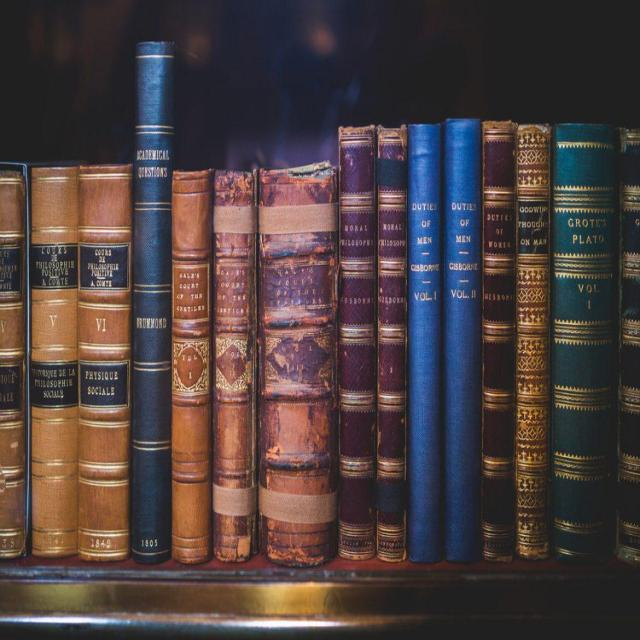book: (555, 134, 610, 555), (267, 186, 329, 554), (84, 175, 122, 550), (174, 181, 207, 559), (448, 127, 477, 556), (38, 173, 69, 552), (520, 135, 547, 558), (218, 183, 248, 555), (343, 139, 370, 551), (144, 52, 162, 554), (382, 140, 402, 556), (419, 137, 438, 543), (491, 125, 507, 558)
